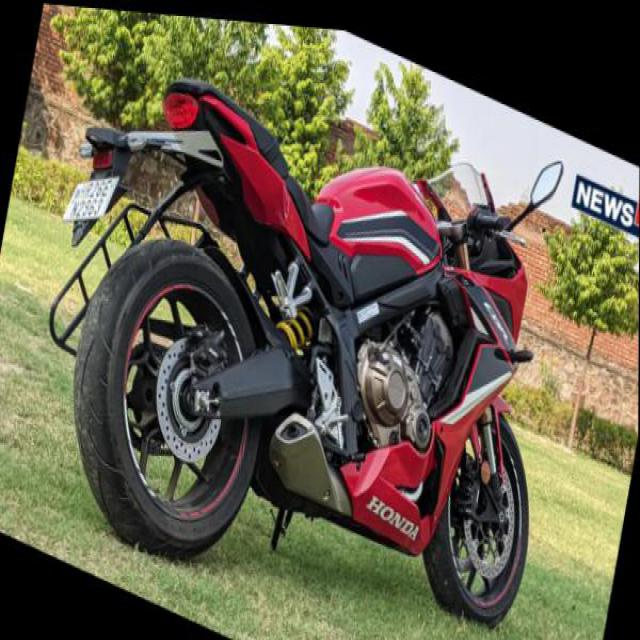CBR650R: (37, 1, 588, 638)
